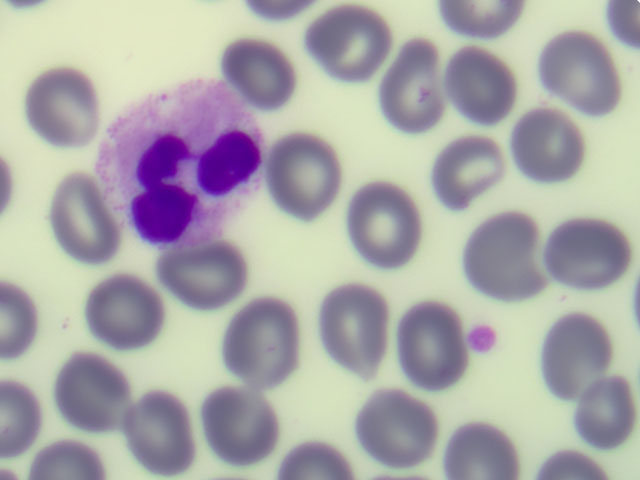Platelets: (467, 318, 504, 358)
RBC: (21, 63, 105, 150), (35, 176, 119, 263), (88, 270, 172, 357), (52, 346, 136, 433), (118, 391, 202, 478), (160, 233, 244, 320), (219, 296, 303, 383), (208, 384, 292, 471), (313, 289, 397, 376), (382, 299, 466, 386), (341, 183, 425, 270), (264, 130, 348, 217), (216, 27, 300, 114), (307, 3, 391, 90), (366, 38, 450, 125), (429, 41, 513, 128), (508, 110, 592, 197), (426, 136, 510, 223), (461, 214, 545, 301), (551, 215, 635, 302), (531, 27, 615, 114), (534, 311, 618, 398), (556, 368, 640, 455), (442, 393, 526, 480), (353, 381, 437, 468)
WBC: (95, 76, 278, 248)
